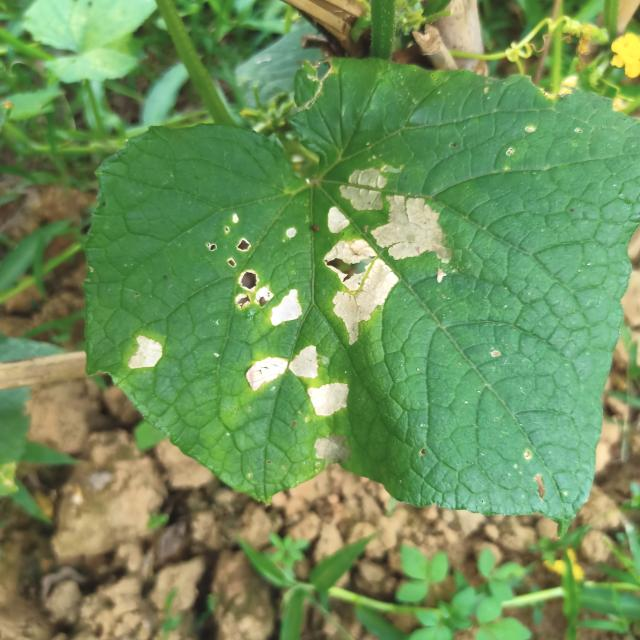disease_cucumber: (318, 153, 453, 352), (204, 205, 304, 334), (237, 340, 367, 418), (122, 329, 172, 374)
